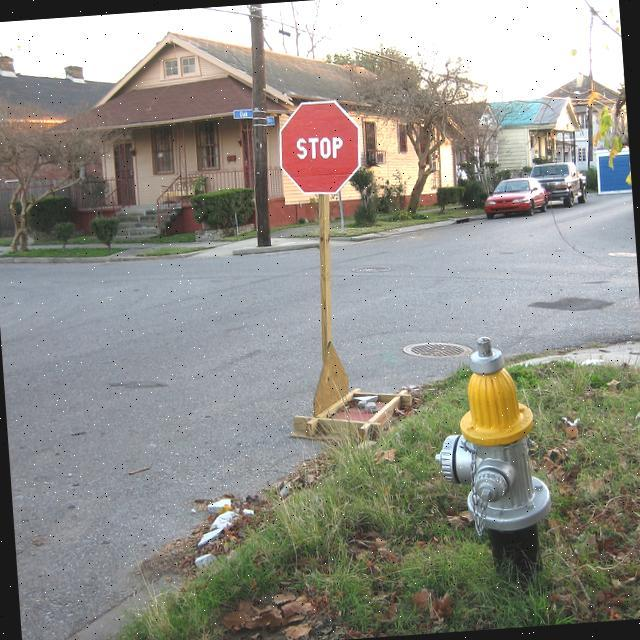fire_hydrant: (424, 328, 562, 594)
